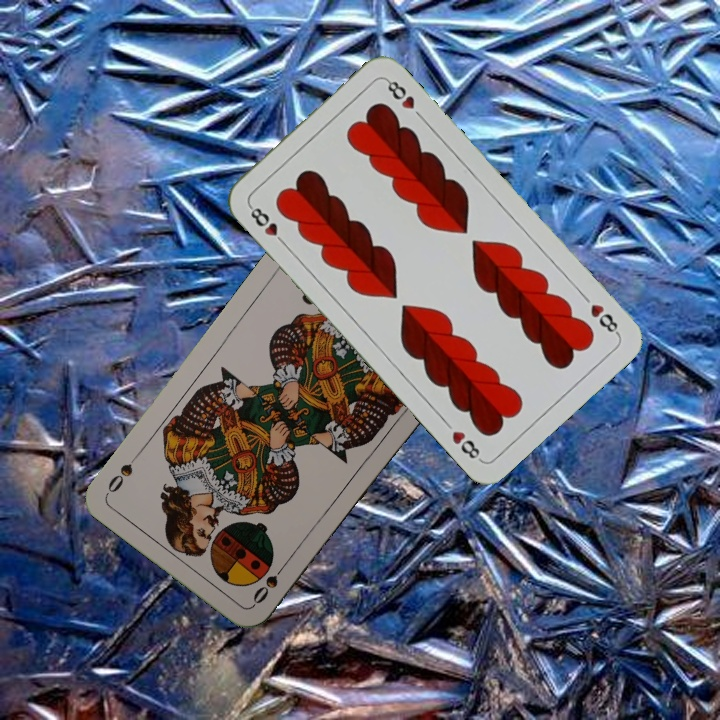H8: (245, 201, 290, 249), (586, 299, 622, 338)
SO: (248, 557, 291, 607)
